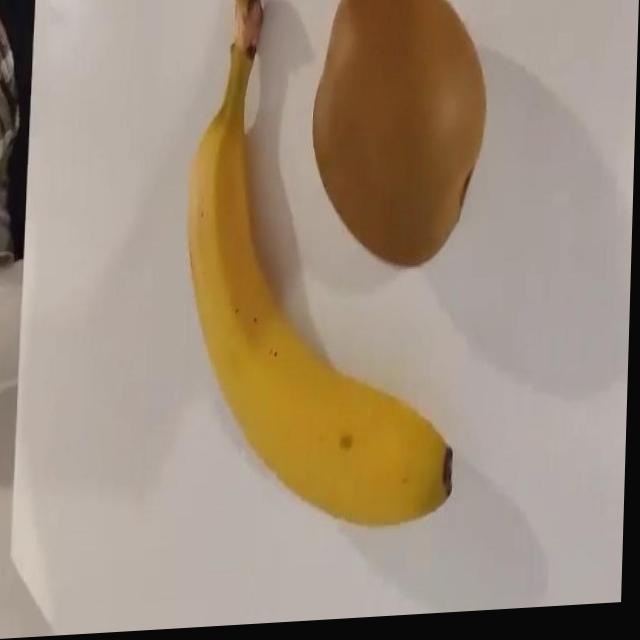Banana: (181, 0, 470, 543)
